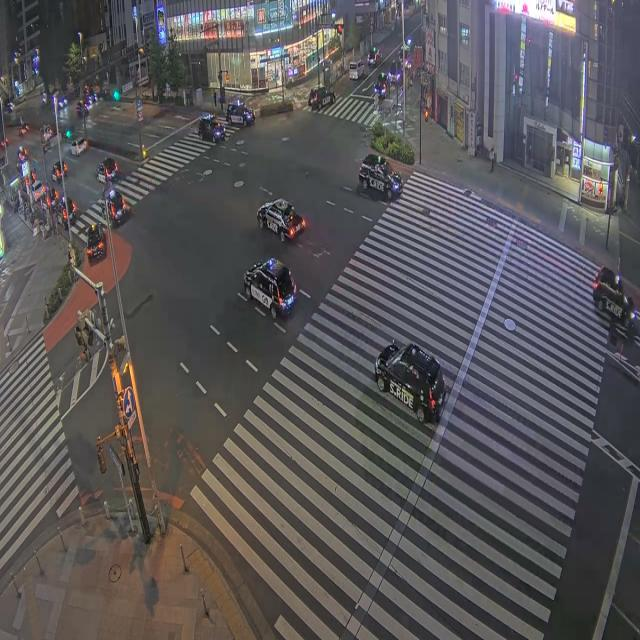car: (375, 344, 447, 423), (244, 258, 296, 319), (593, 267, 635, 328), (257, 199, 305, 242), (359, 154, 402, 200), (102, 189, 128, 225), (198, 114, 225, 141), (226, 100, 254, 126), (86, 224, 105, 261), (308, 86, 335, 110), (55, 198, 76, 228), (96, 158, 117, 183), (374, 73, 391, 99), (52, 161, 67, 182), (368, 46, 382, 68), (71, 138, 87, 156), (389, 62, 402, 84), (47, 185, 60, 207), (33, 181, 46, 201), (41, 125, 55, 143), (76, 101, 88, 116), (18, 146, 28, 162), (404, 55, 412, 71), (58, 96, 67, 109), (19, 123, 28, 135), (5, 102, 14, 113), (0, 137, 8, 148)
van: (349, 60, 364, 79)
